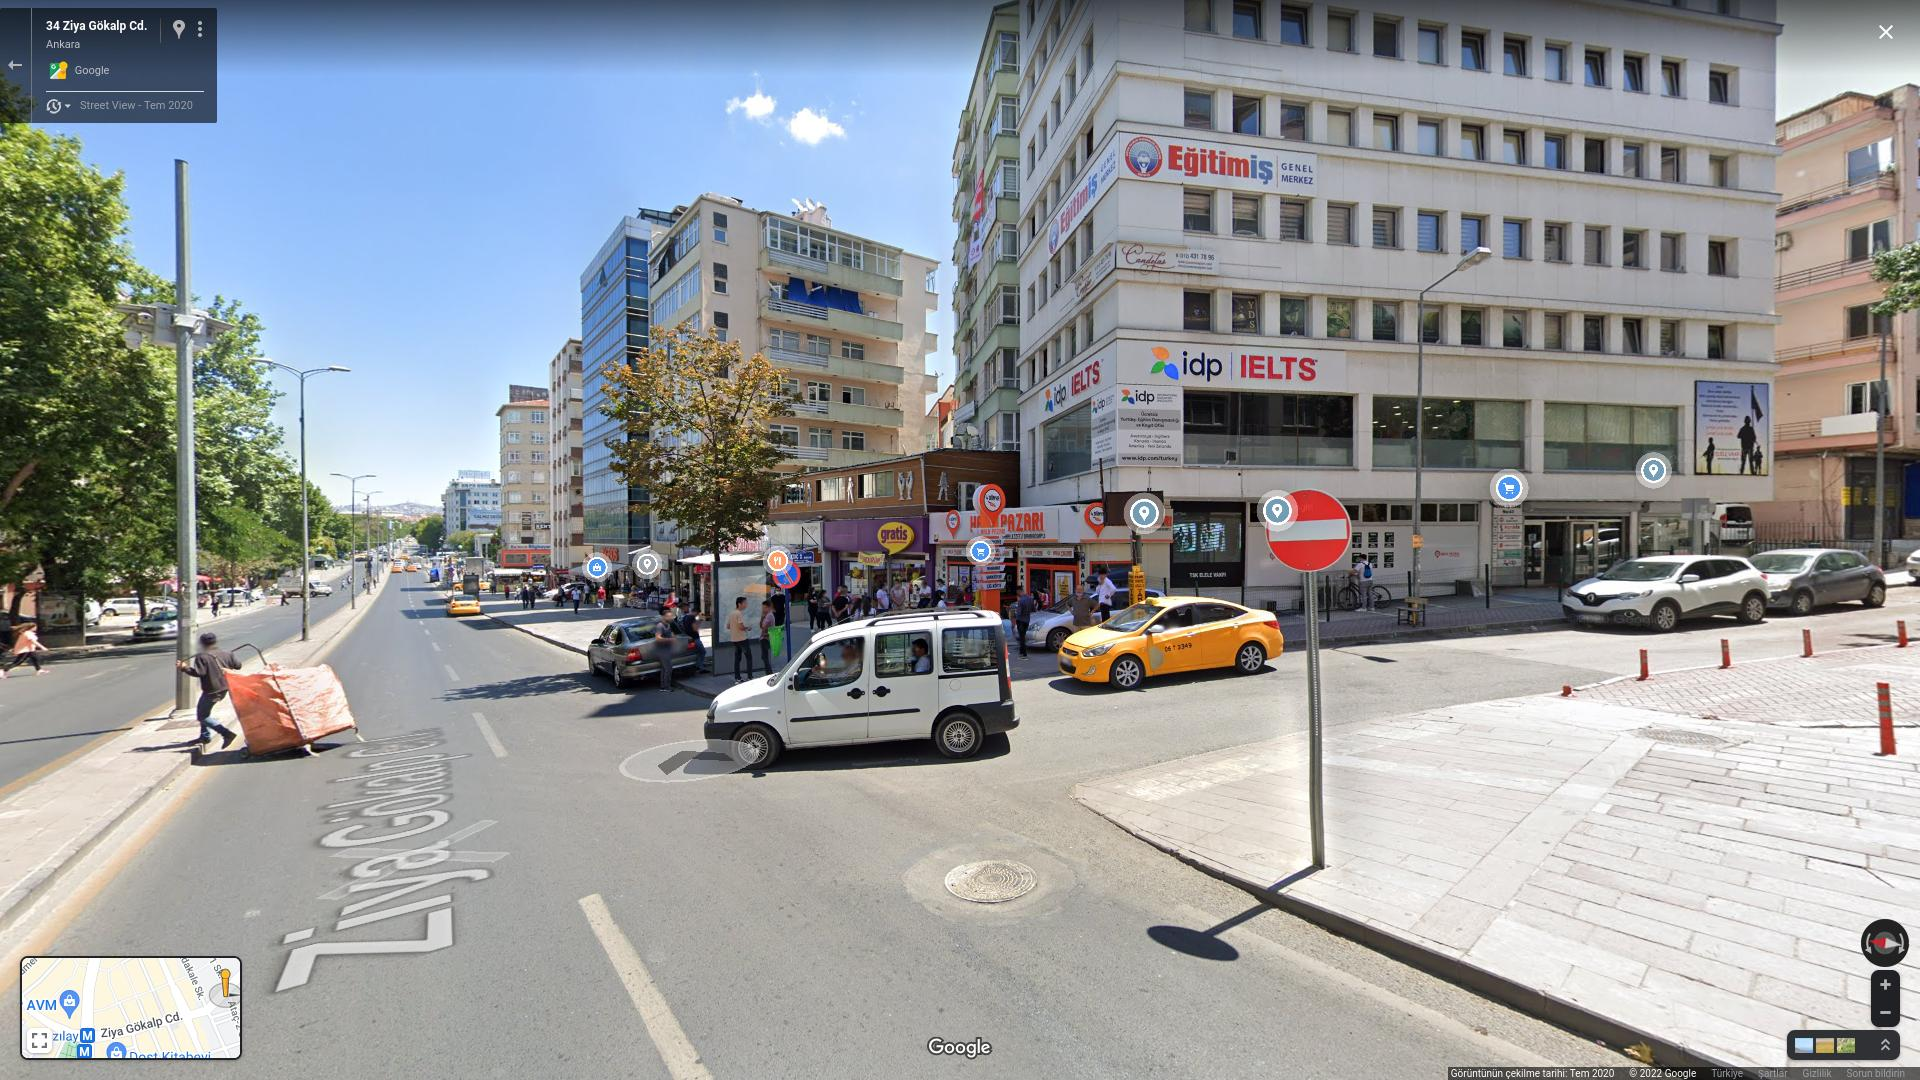nopark: (773, 562, 800, 588)
